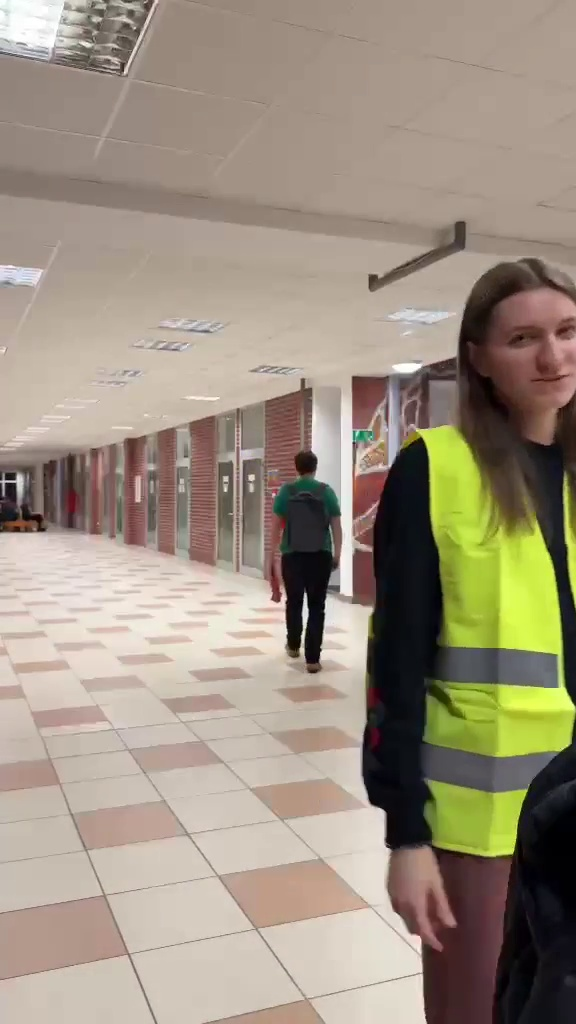no vest: (258, 432, 344, 657)
vest: (396, 248, 573, 982)
